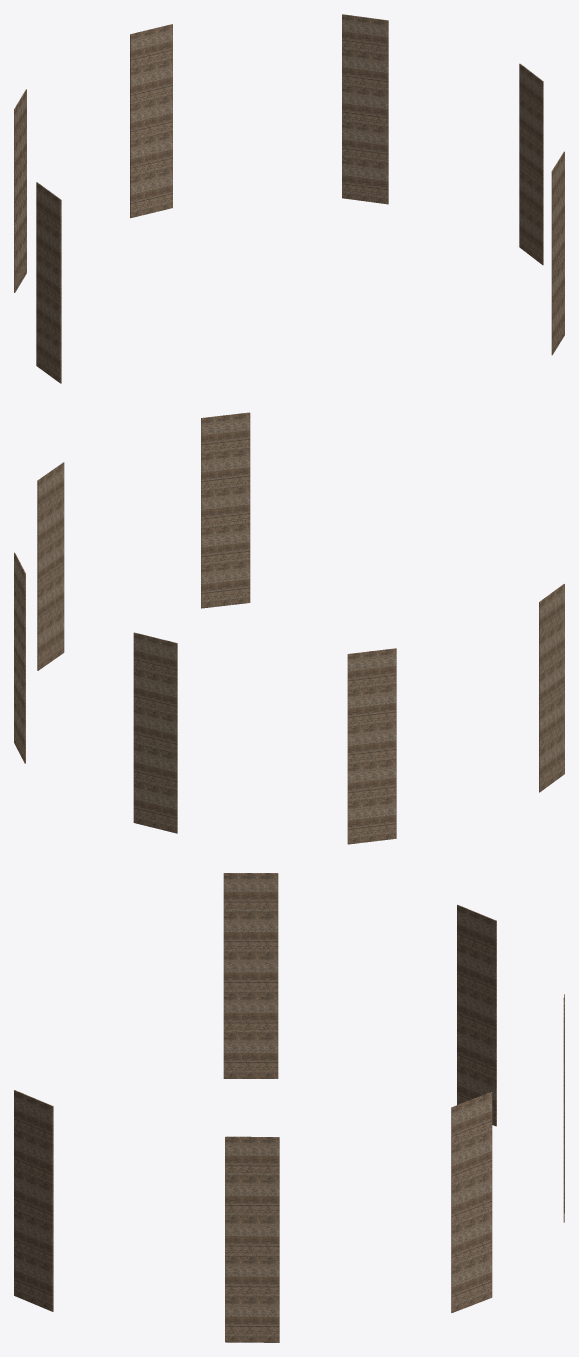
The model's file is paredesInteriores.obj.
3 renders of one model, top to bottom at view 1: azimuth 30°, elevation 25°; view 2: azimuth 150°, elevation 25°; view 3: azimuth 270°, elevation 25°, orthographic. The views are drawn at different scales.
Parts seen in each view (by area): view 1: interior4, interior3, interior6, interior5, interior1, interior2; view 2: interior1, interior2, interior3, interior5, interior6, interior4; view 3: interior6, interior5, interior4, interior1, interior2.
Part boxes in pixels (x1,y1,x2,y2): interior4: [342, 14, 388, 204]; interior3: [130, 24, 172, 218]; interior6: [36, 182, 61, 383]; interior5: [519, 63, 543, 265]; interior1: [551, 151, 564, 355]; interior2: [14, 89, 26, 292]; interior1: [201, 412, 250, 608]; interior2: [347, 648, 396, 844]; interior3: [133, 632, 177, 833]; interior5: [37, 462, 64, 670]; interior6: [539, 584, 564, 792]; interior4: [14, 552, 25, 763]; interior6: [223, 873, 278, 1078]; interior5: [225, 1136, 279, 1342]; interior4: [451, 1092, 492, 1312]; interior1: [14, 1090, 53, 1311]; interior2: [457, 904, 496, 1126].
Size of the model in its own units: 21.55 by 7.8 by 18.97.
1 material, 1 textured.
